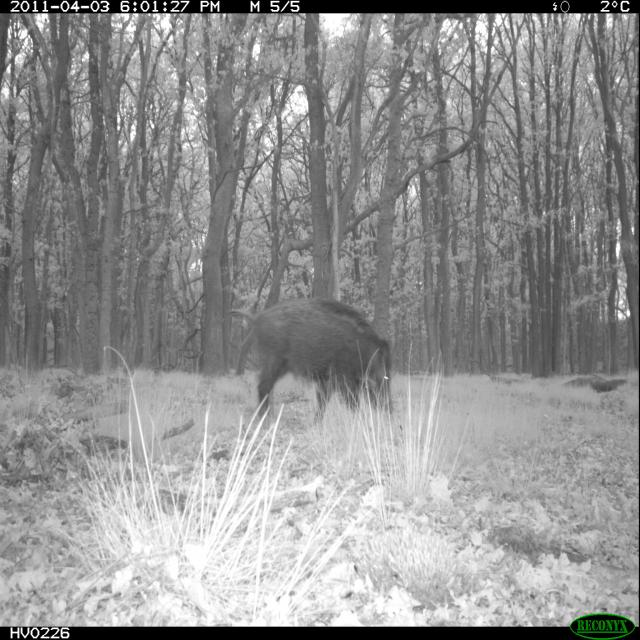boar: (220, 277, 404, 455)
